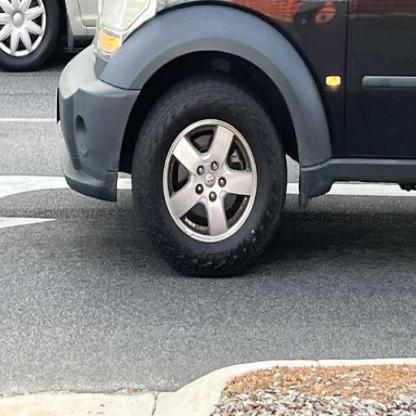Tire: (130, 76, 287, 282), (0, 0, 62, 73)
